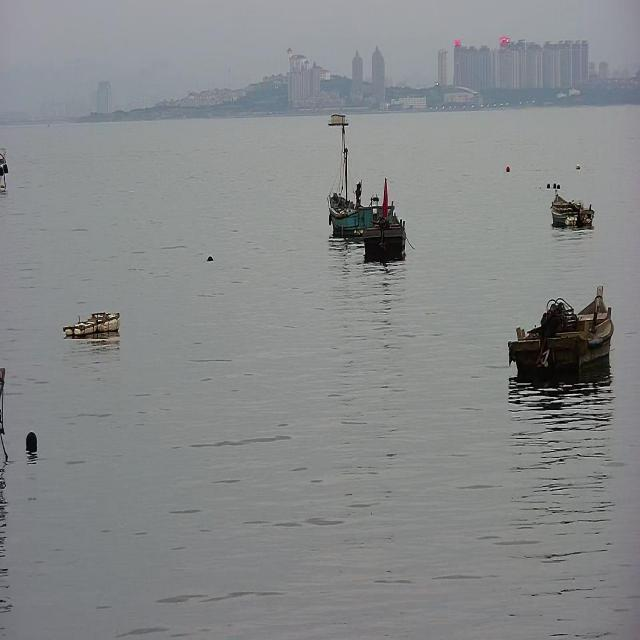ship2: (509, 290, 613, 377), (329, 184, 406, 261), (547, 182, 598, 233), (62, 309, 119, 340)
